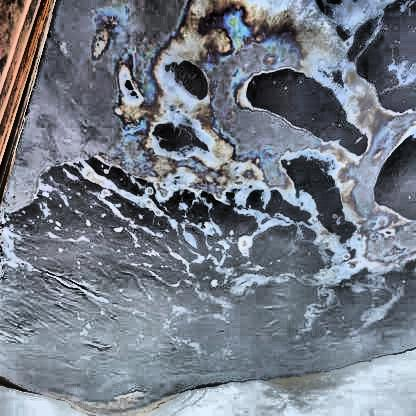rainbow: (82, 0, 416, 281)
